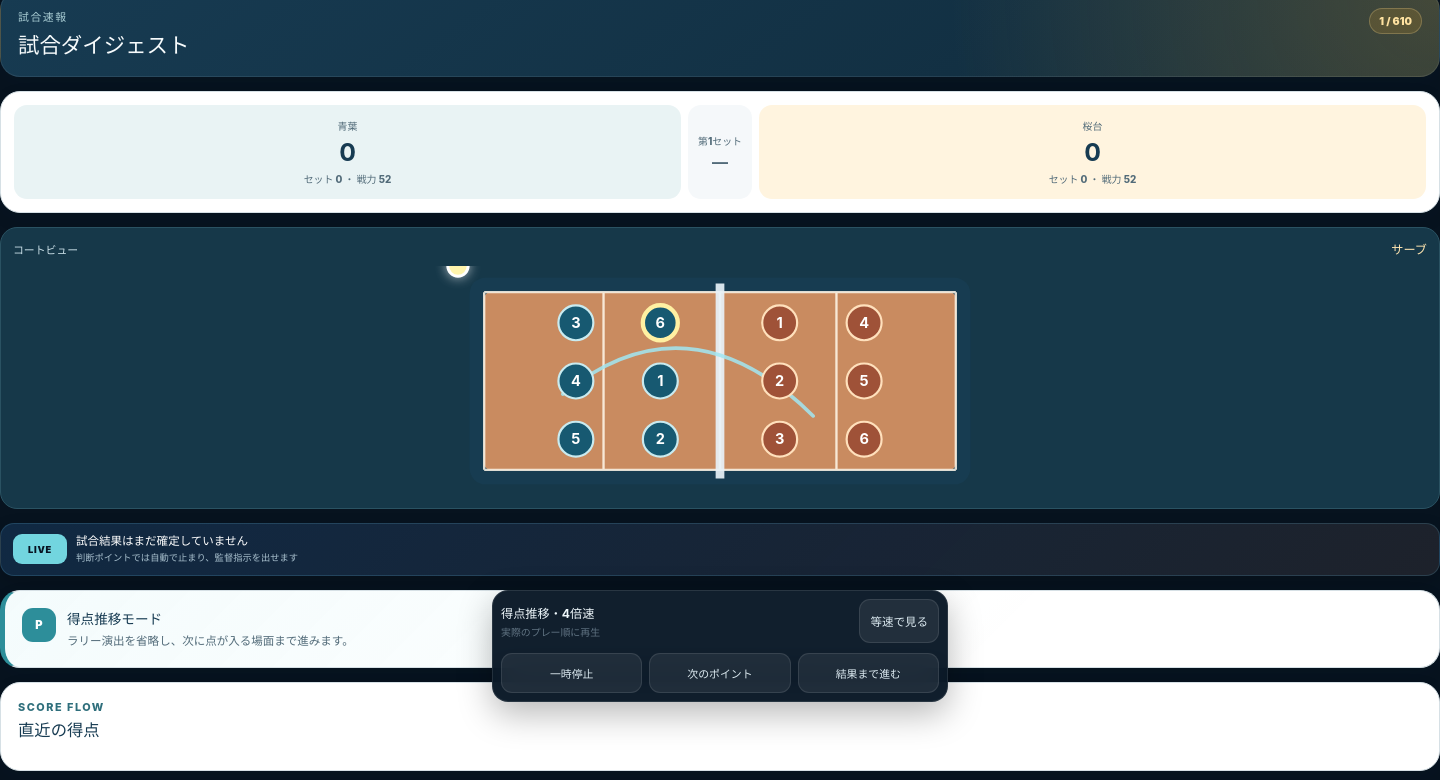
Test: Phase16 MatchScreen command presentation › omits coach-command history for a completed one-shot match with no commands
The image size is (1440, 780).
Click the button "結果まで進む" at (868, 673), box [798,653,939,693]
(page scrolled)
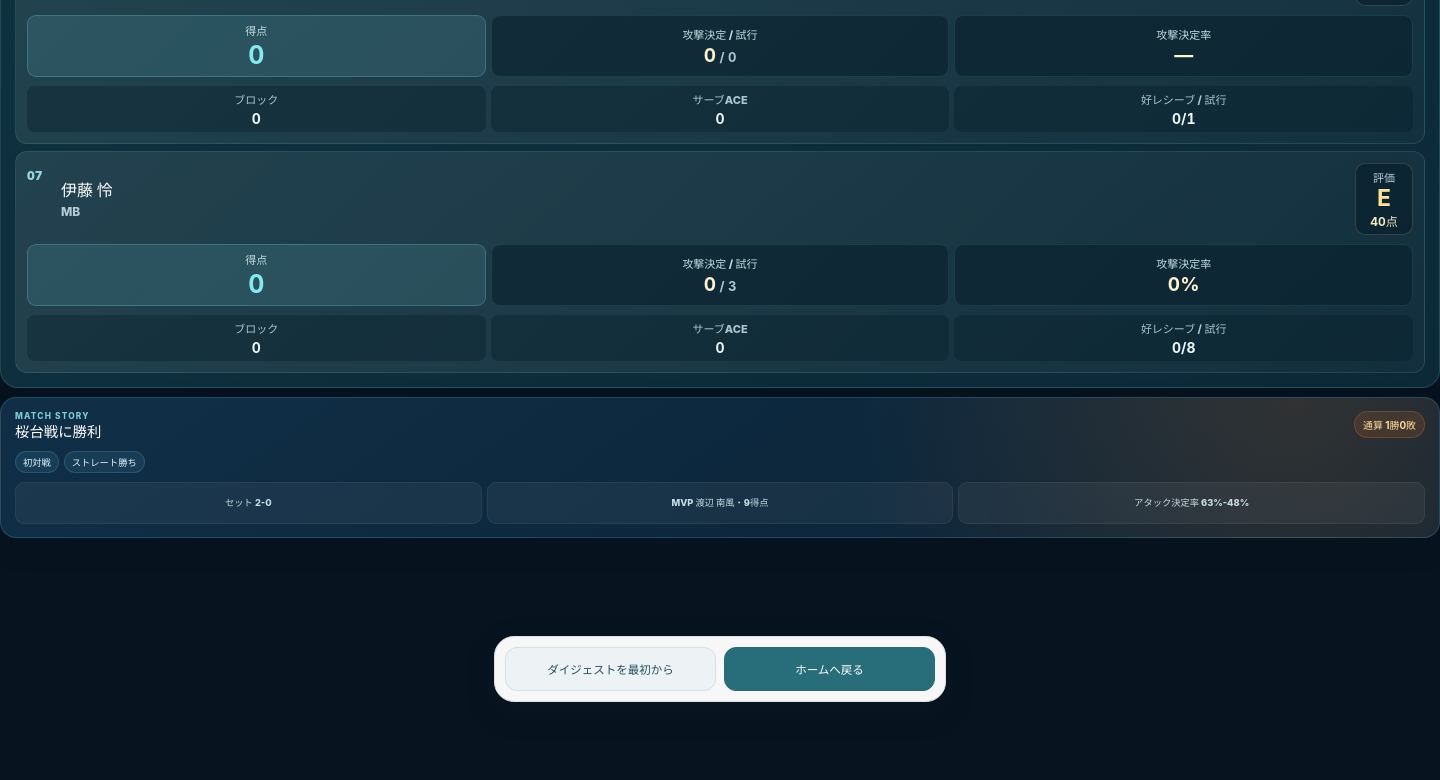
Check: the element named "今回の試合の物語" is shown, box [0,397,1439,538]
